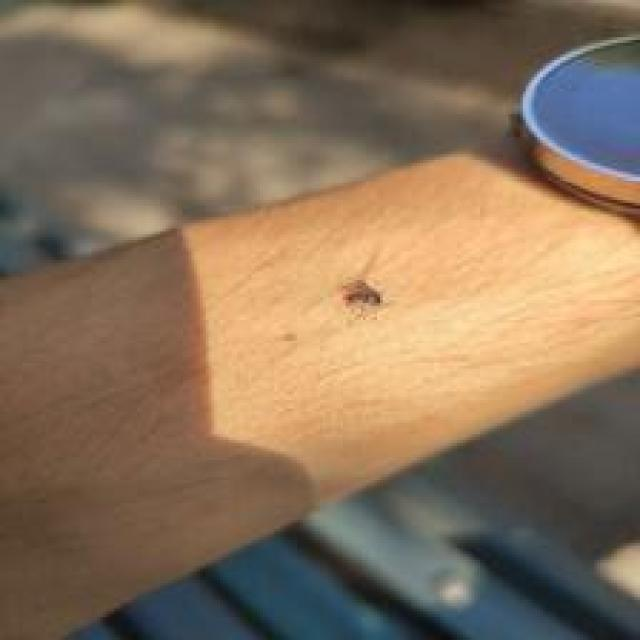Aedes albopictus: (511, 24, 640, 227)
